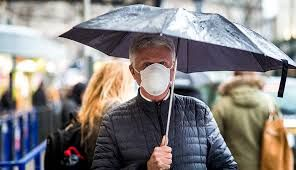with-mask: (123, 31, 181, 99)
